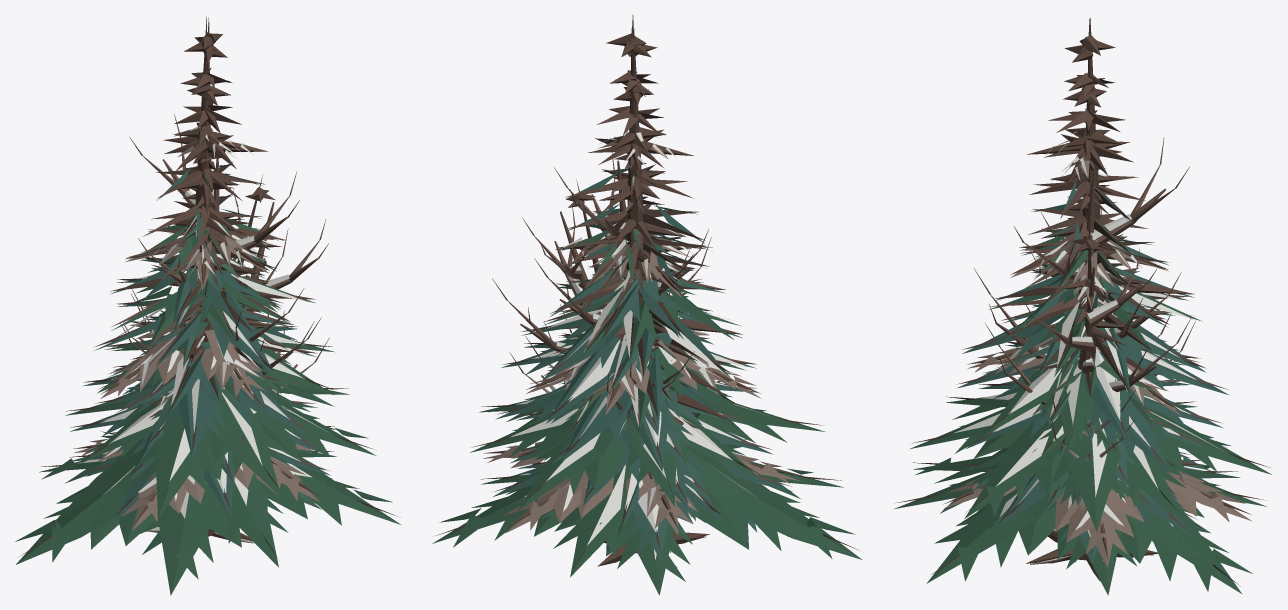
Rendered from trees.glb.
3 renders of one model, left to right at view 1: azimuth 30°, elevation 25°; view 2: azimuth 150°, elevation 25°; view 3: azimuth 270°, elevation 25°, orthographic. The views are drawn at different scales.
Parts seen in each view (by area): view 1: pine-a_lod0, spruce-a_lod0, larch-a_lod0, spruce-b_lod0, spruce-c_lod0, birch-a_lod0, birch-b_lod0, pine-b_lod0; view 2: pine-a_lod0, spruce-a_lod0, larch-a_lod0, spruce-b_lod0, spruce-c_lod0, birch-b_lod0, birch-a_lod0, pine-b_lod0; view 3: pine-a_lod0, spruce-a_lod0, larch-a_lod0, spruce-b_lod0, pine-b_lod0, birch-a_lod0, birch-b_lod0, spruce-c_lod0.
Boxes of the visible parts, <box> form: pine-a_lod0: <box>15,170,400,595</box>; spruce-a_lod0: <box>70,67,331,520</box>; larch-a_lod0: <box>73,17,336,541</box>; spruce-b_lod0: <box>69,152,316,509</box>; spruce-c_lod0: <box>130,16,264,536</box>; birch-a_lod0: <box>123,113,314,543</box>; birch-b_lod0: <box>120,190,329,393</box>; pine-b_lod0: <box>89,175,321,509</box>; pine-a_lod0: <box>432,176,862,595</box>; spruce-a_lod0: <box>493,70,792,530</box>; larch-a_lod0: <box>483,15,801,566</box>; spruce-b_lod0: <box>516,154,757,560</box>; spruce-c_lod0: <box>592,15,706,567</box>; birch-b_lod0: <box>492,207,690,418</box>; birch-a_lod0: <box>525,152,711,565</box>; pine-b_lod0: <box>517,179,695,552</box>; pine-a_lod0: <box>893,178,1271,595</box>; spruce-a_lod0: <box>957,73,1228,555</box>; larch-a_lod0: <box>943,18,1251,567</box>; spruce-b_lod0: <box>982,160,1211,563</box>; pine-b_lod0: <box>1032,225,1175,562</box>; birch-a_lod0: <box>974,137,1189,564</box>; birch-b_lod0: <box>985,249,1195,461</box>; spruce-c_lod0: <box>1040,18,1157,581</box>.
Size of what is drawn, in the model's own units: 10.83 by 15 by 9.54.
